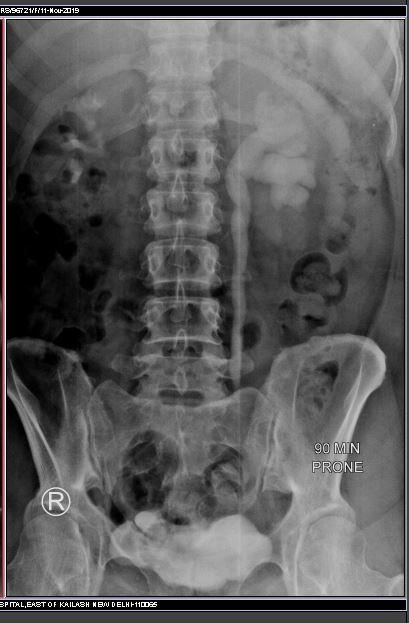bladder: (112, 510, 284, 604)
vertebrae: (148, 130, 225, 188)
